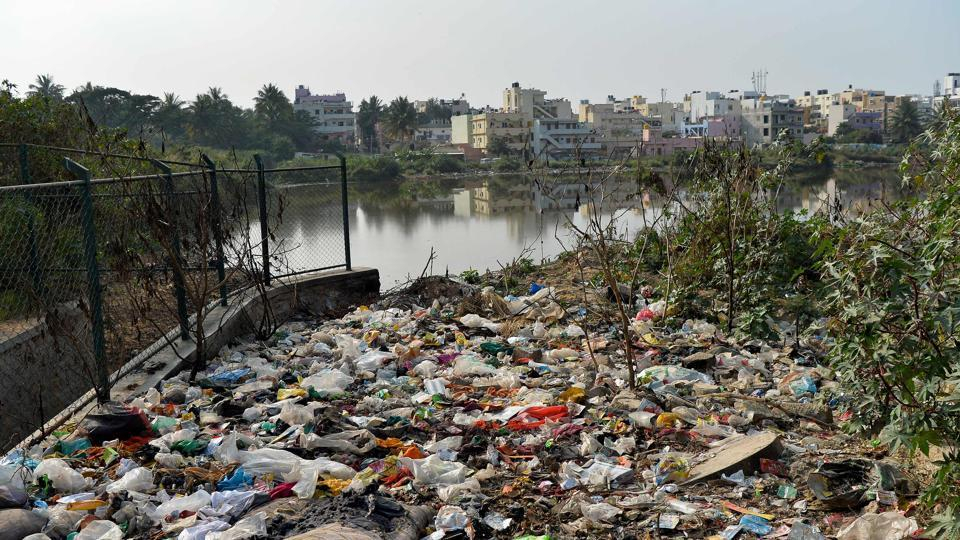garbage: (0, 260, 945, 540)
